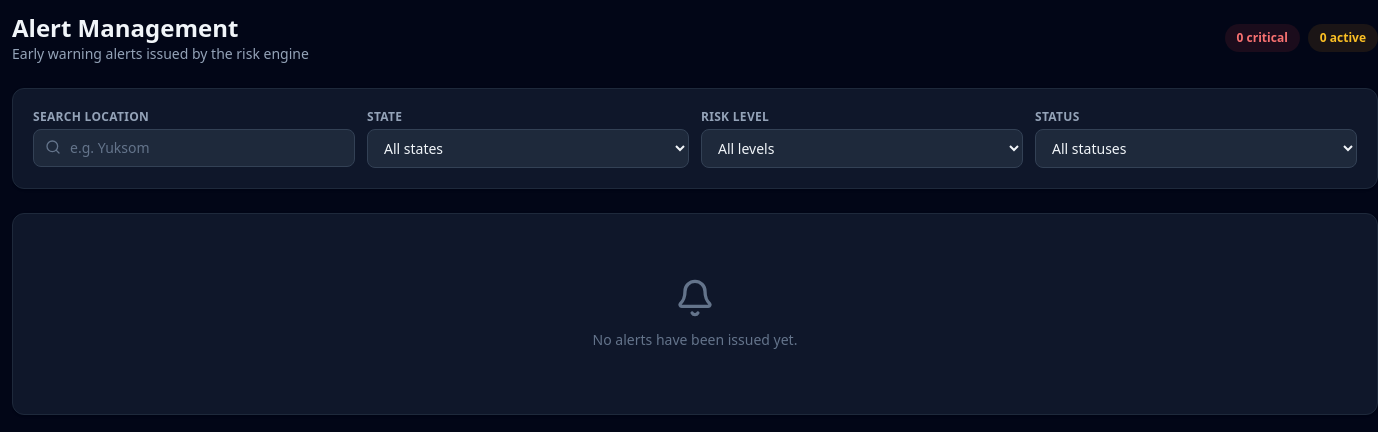
Test: Alerts authority page › distinguishes "no alerts issued" from "no filter matches"
expect the text "No alerts have been issued yet." is shown: met, box [593,330,797,350]
# Applying a filter while the result set is empty switches the message.
Select "resolved" in the dropdown labelled "Status" at (1196, 148), box [1035,129,1357,168]
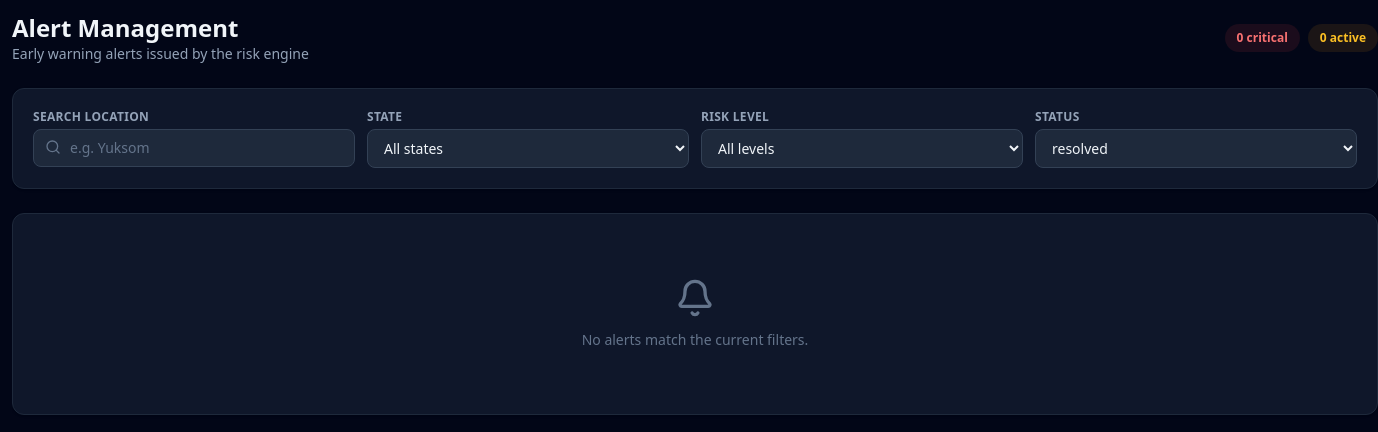
expect the text "No alerts match the current filters." is shown: met, box [582,330,808,350]
